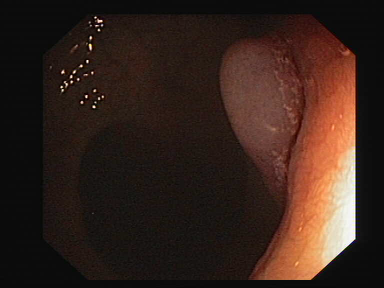polyp: (194, 23, 324, 196)
